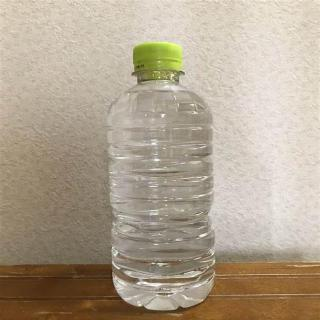Plastic-bottle: (103, 37, 225, 312)
